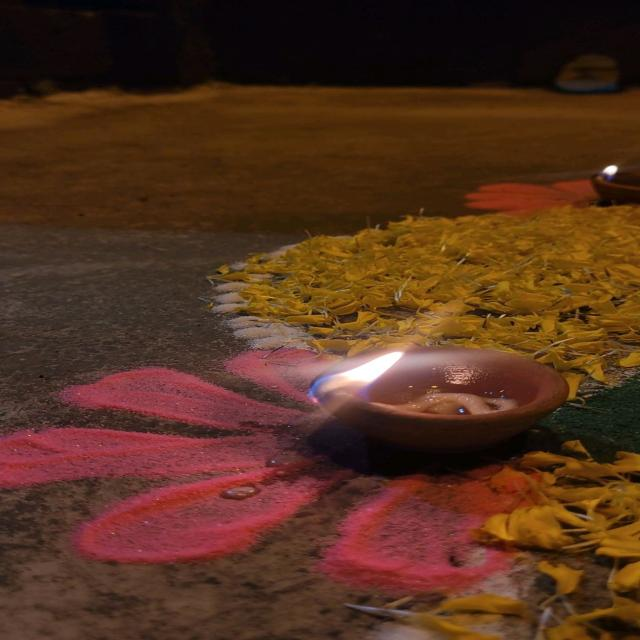fire: (306, 351, 404, 397)
